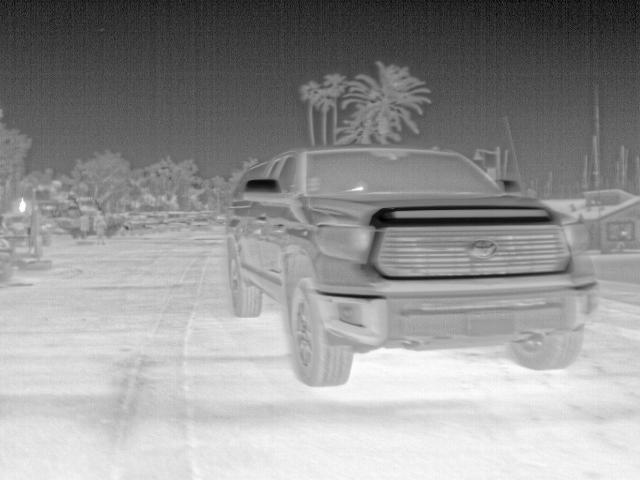car: (225, 145, 599, 387)
person: (93, 210, 108, 246)
